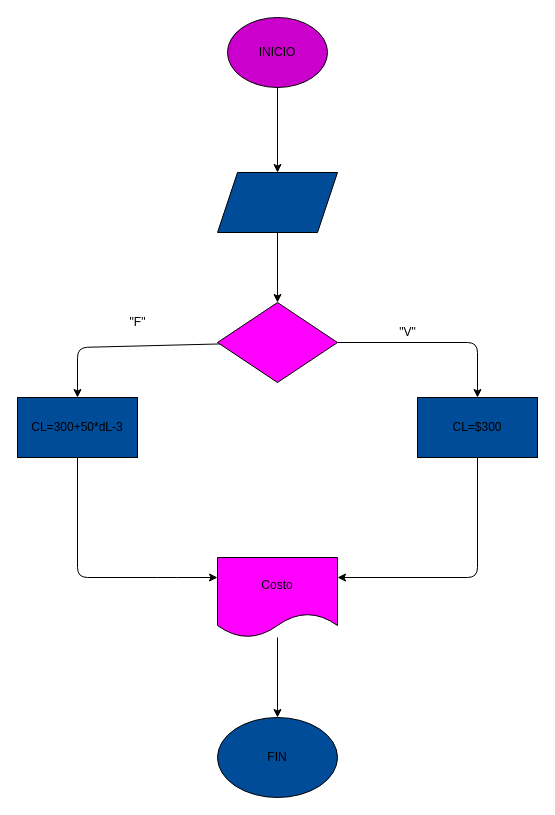
Some shapes in this 555 by 815 pixel diagram are drawn without their labels. The shapes that lost their labels are listed below. From the top down, each one's centre as x and y in pixels, then its label:
point 277,202: dL
point 277,342: dL<=3
